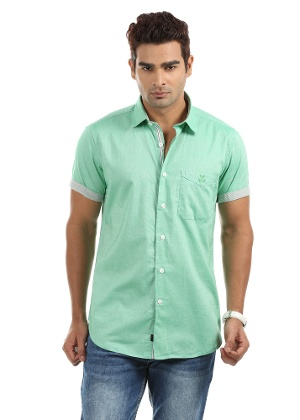Shirt: (62, 97, 259, 360)
